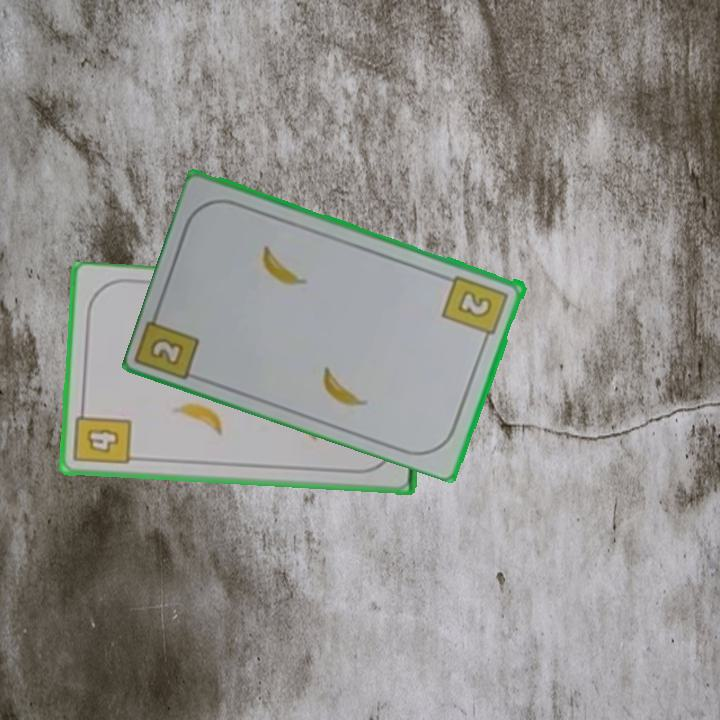2b: (439, 271, 512, 346), (149, 336, 184, 365)
4b: (71, 403, 134, 468)
